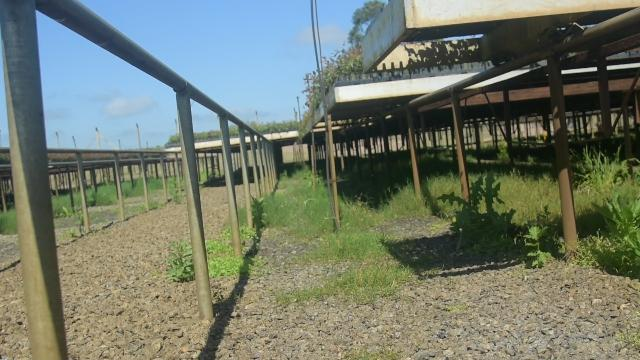MalezaMontesDelPlata: (459, 168, 509, 260), (593, 193, 640, 277), (336, 266, 415, 300), (516, 214, 555, 269), (329, 235, 393, 261), (160, 238, 193, 283), (209, 254, 266, 276)
